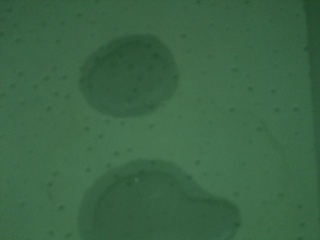Water_detected: (106, 173, 201, 235), (90, 41, 161, 104)
